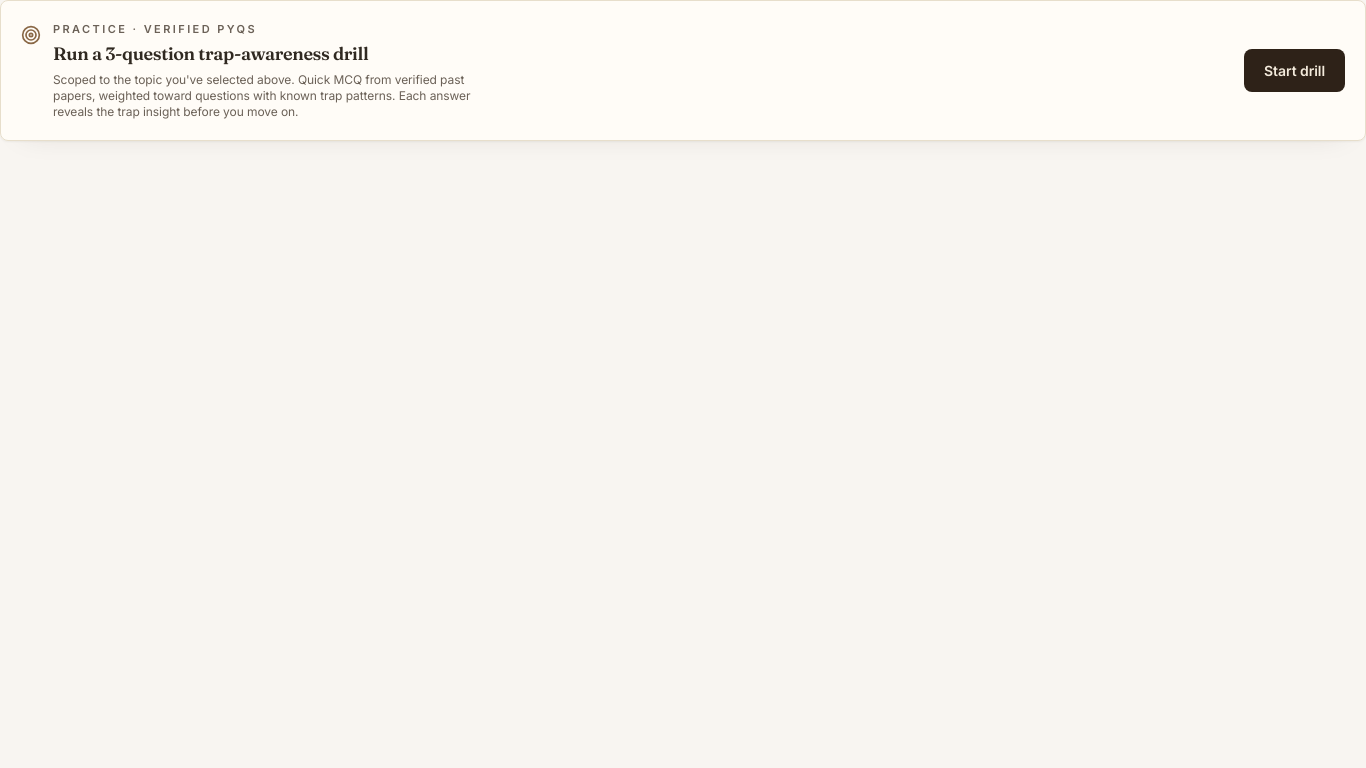
Scenario: clicking Start drill opens the modal and fires the fetch
This screenshot has width=1366, height=768.
Click the button with test id "trap-drill-start" at (1295, 70), box [1244,49,1345,92]
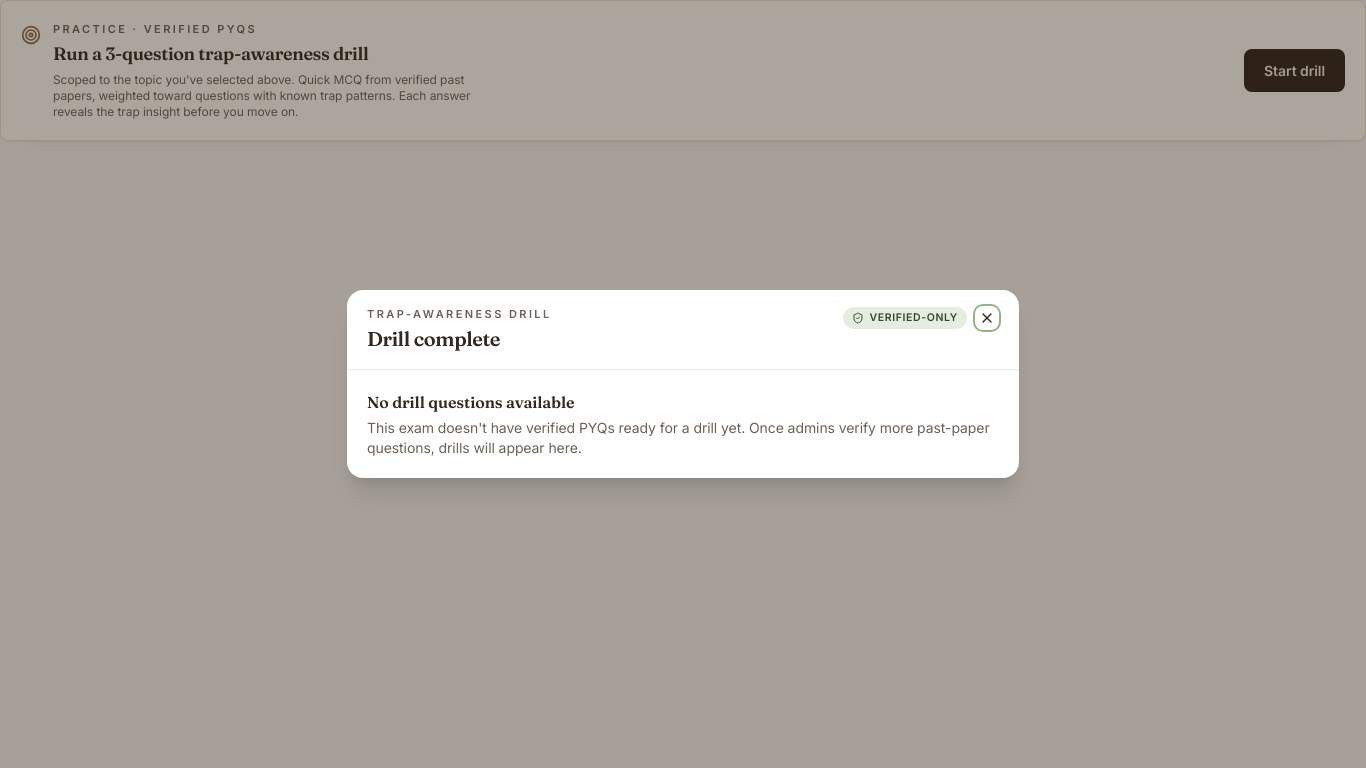
Now the dialog with test id "trap-drill-modal" is shown
